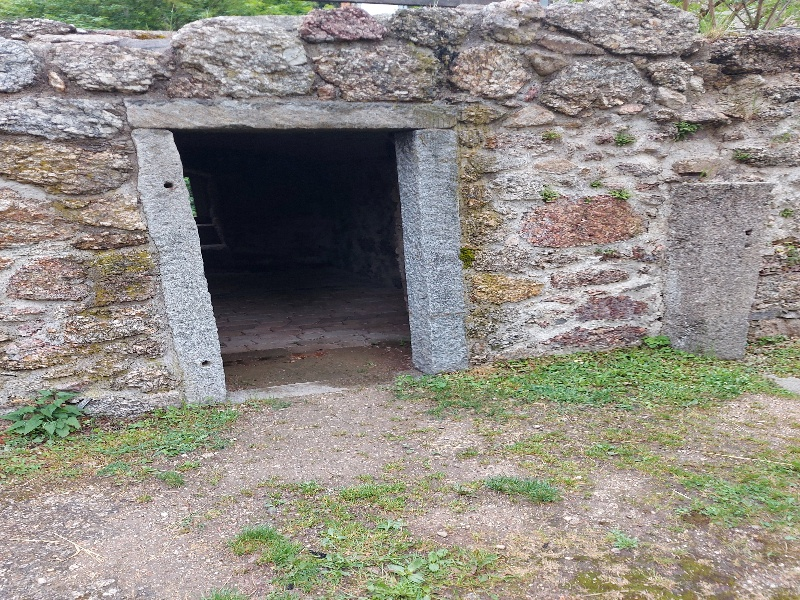door2: (105, 82, 487, 407)
